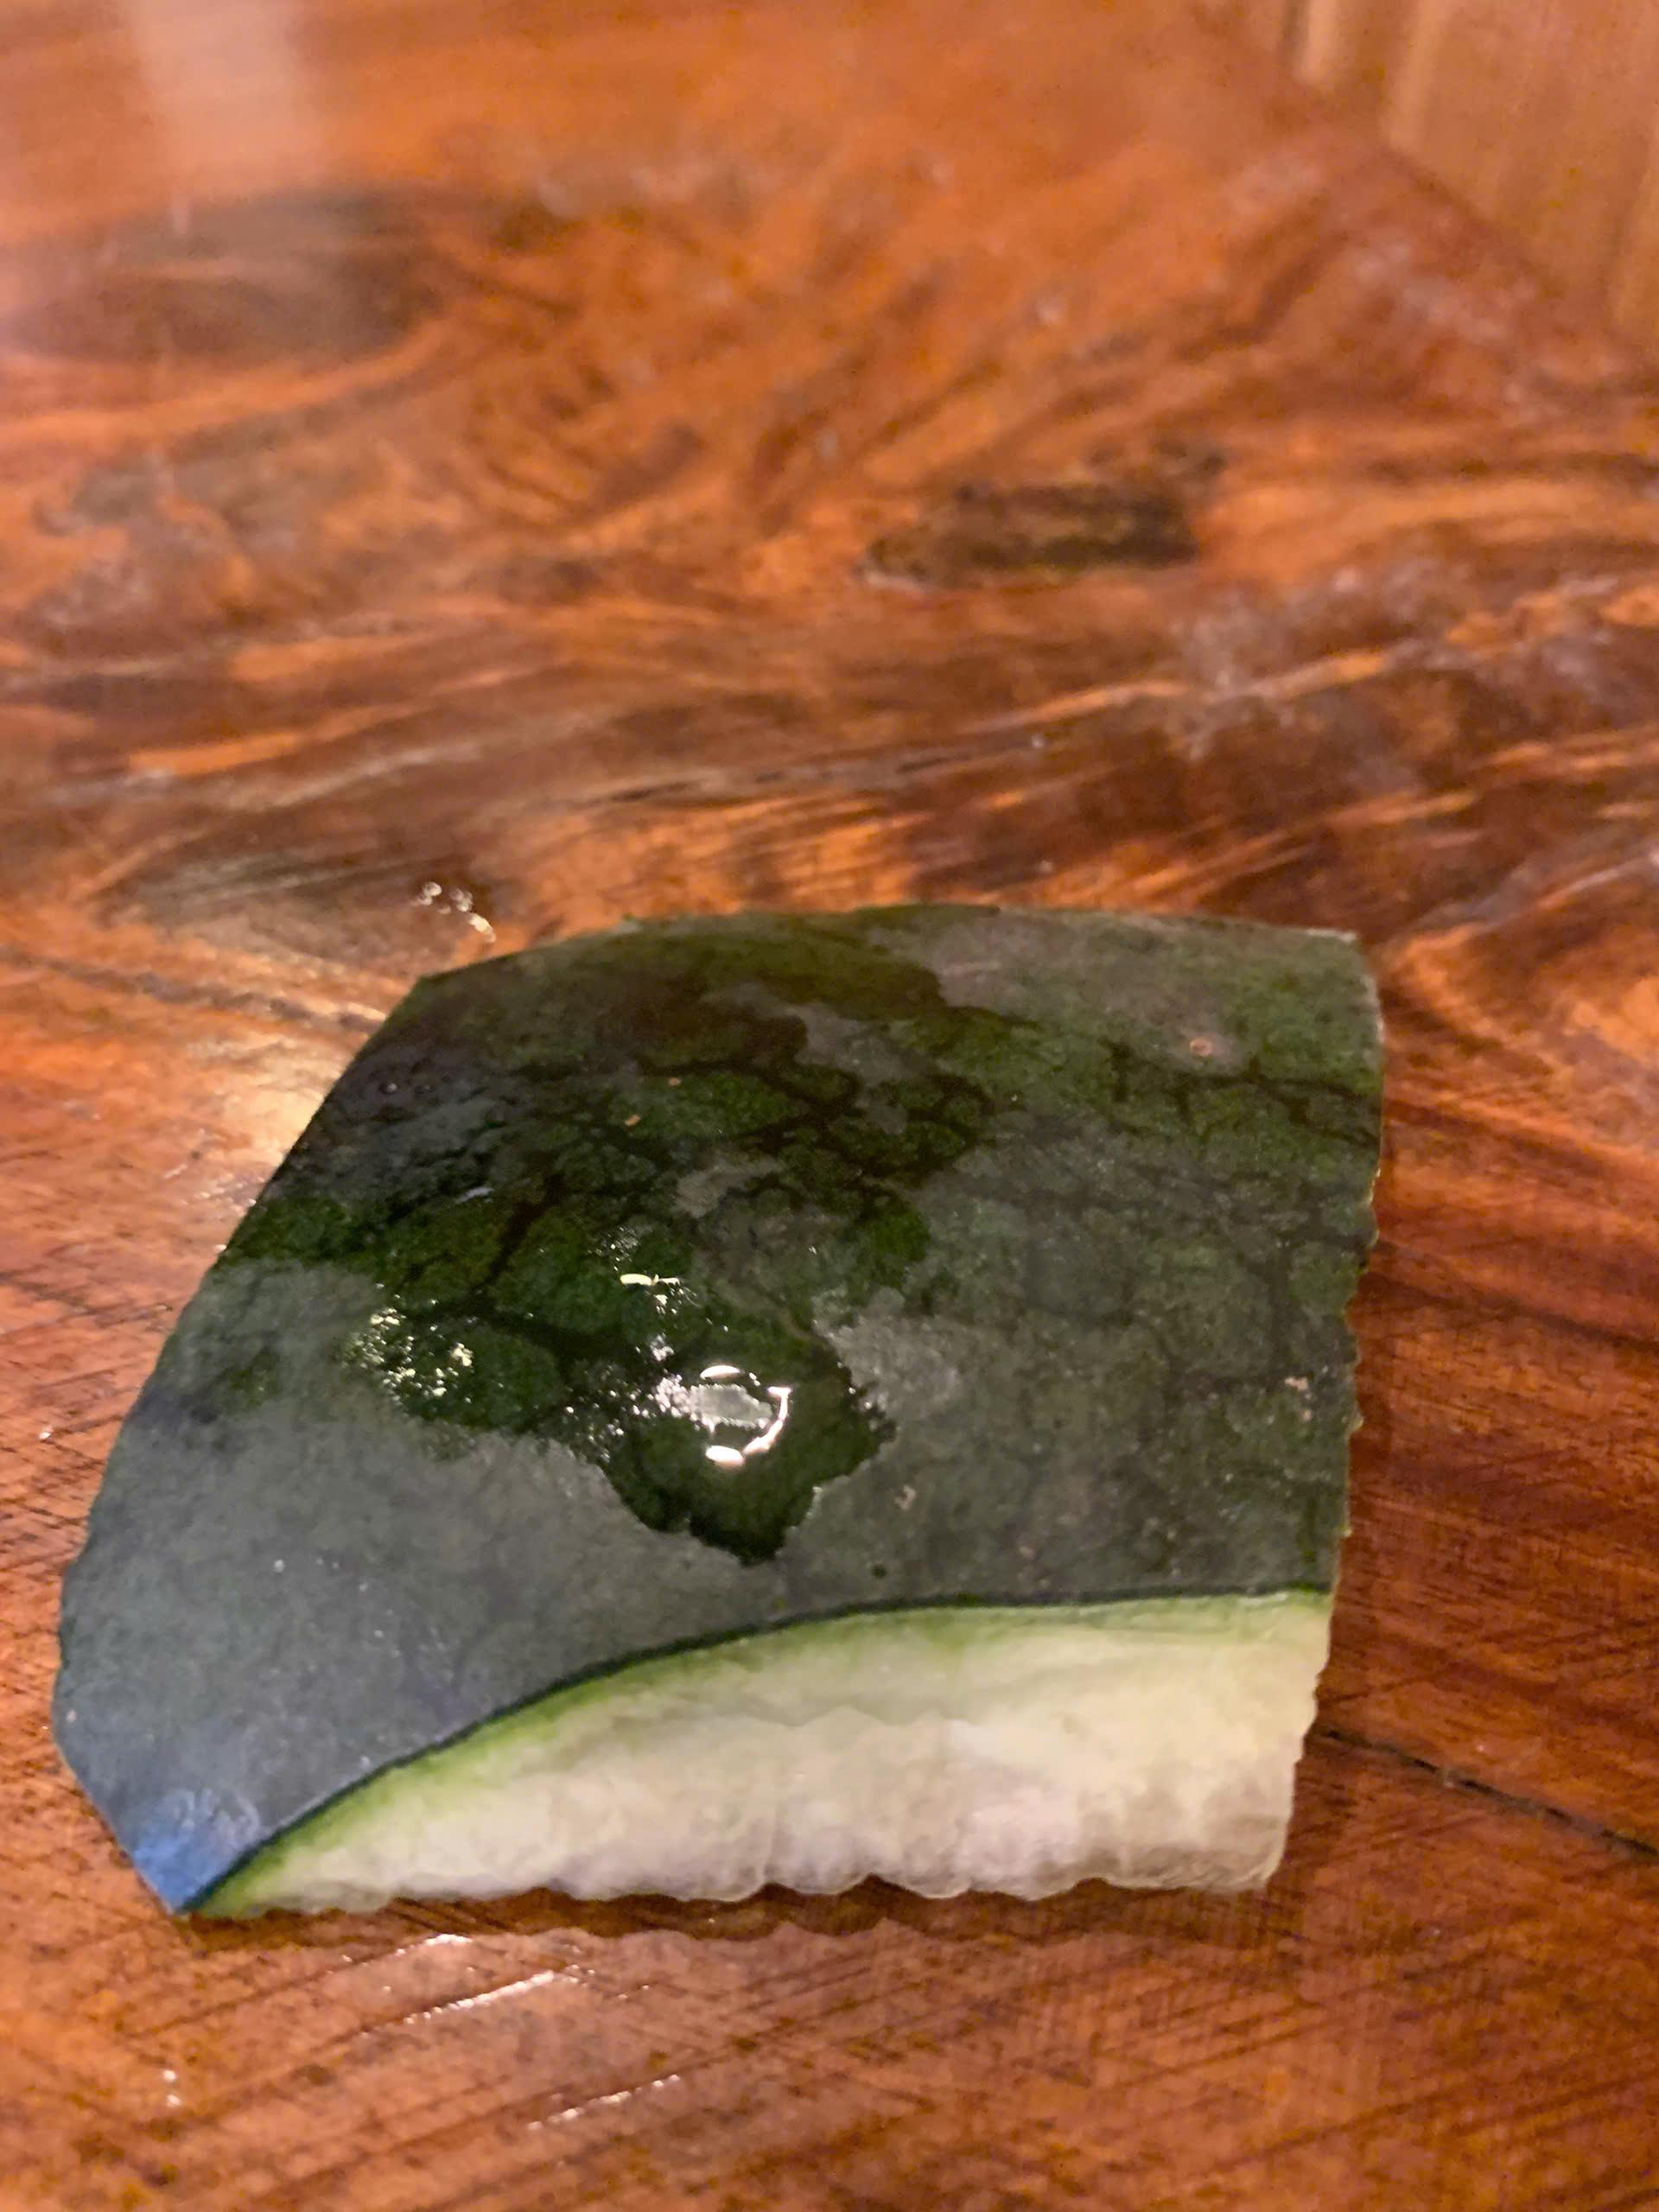Huu co: (52, 925, 1368, 1905)
